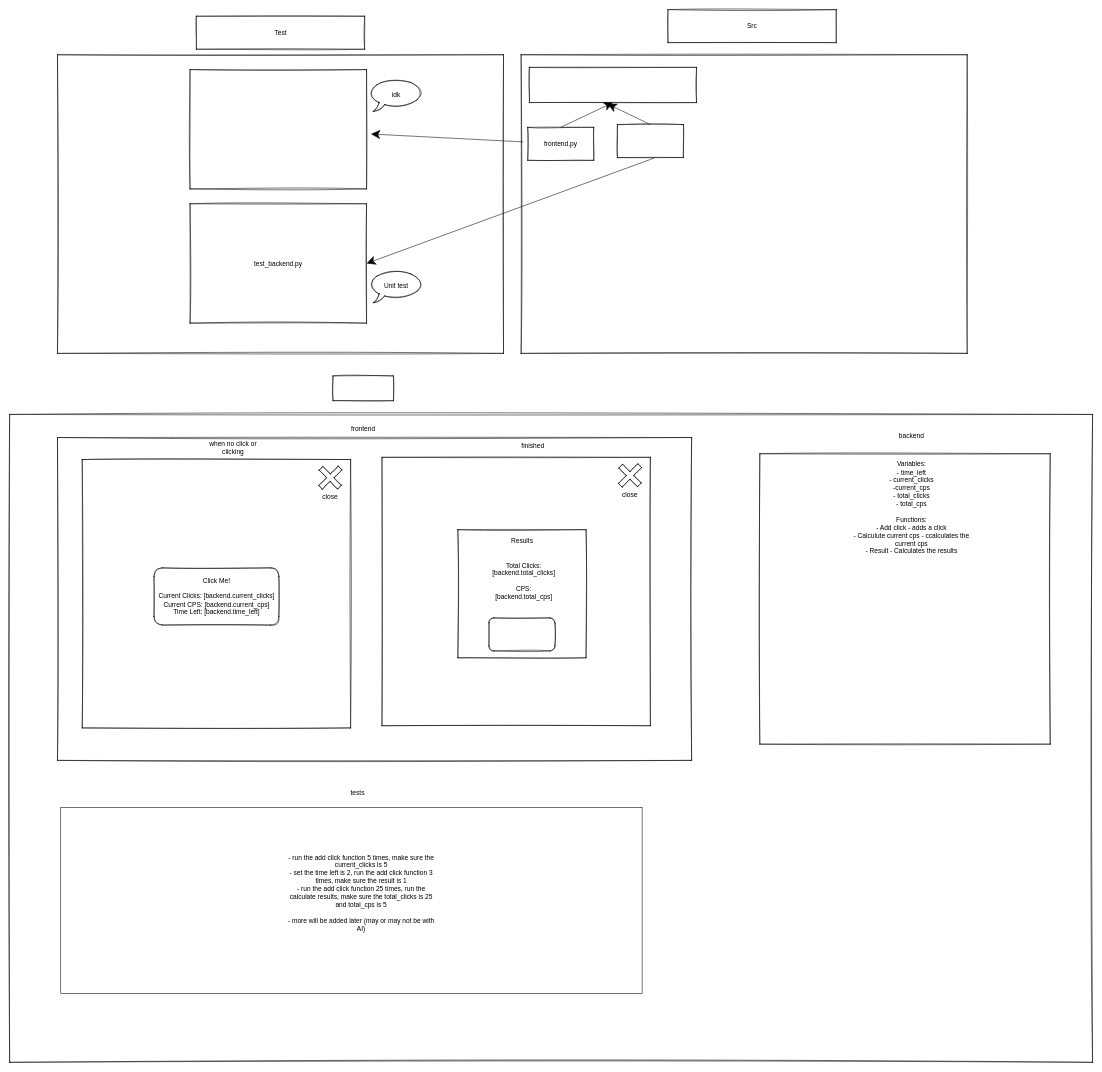
This 1102x1072 diagram has some shape labels left out. Here are the shapes that lost their labels. From the top down, the centre of each, then its label:
At (613,85): "main.py".
At (278,129): "test_frontend.py".
At (650,141): "backend.py".
At (363,388): "v1".
At (521,634): "Finish".
